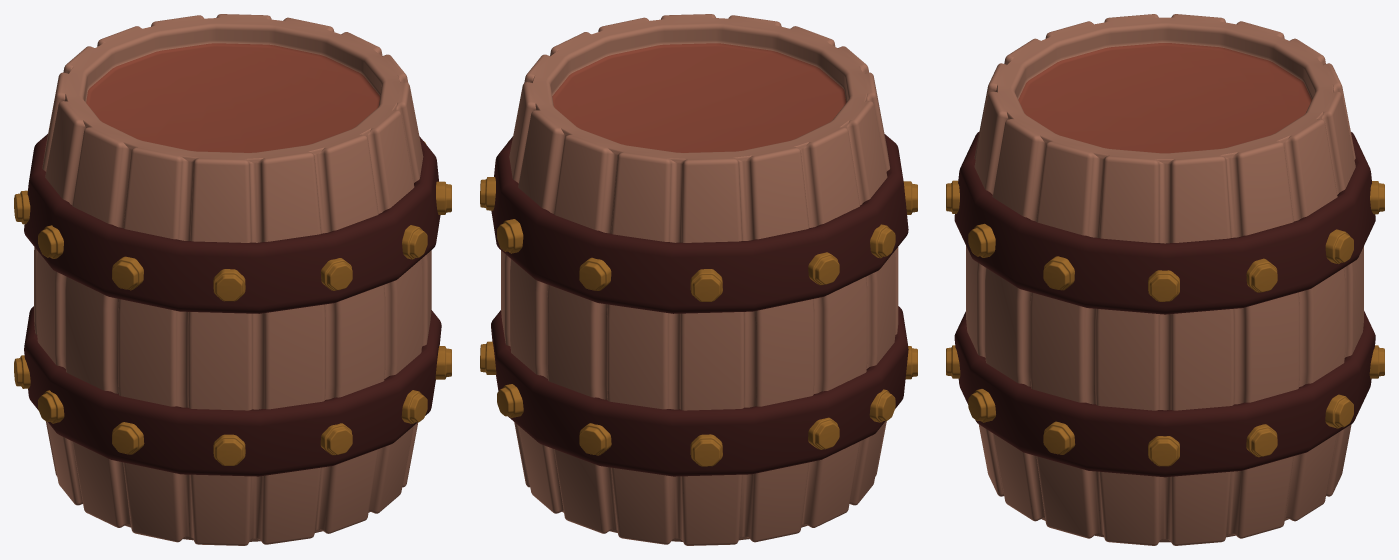
Rendered from Barrel.fbx.
3 renders of one model, left to right at view 1: azimuth 30°, elevation 25°; view 2: azimuth 150°, elevation 25°; view 3: azimuth 270°, elevation 25°, orthographic.
Visible parts, largest first — view 1: Cylinder, Cylinder.022, Cylinder.034, Cylinder.023; view 2: Cylinder, Cylinder.022, Cylinder.034, Cylinder.023; view 3: Cylinder, Cylinder.022, Cylinder.034, Cylinder.023.
Boxes of the visible parts, x1,y1,x2,y2 form: Cylinder: (34,14,431,545); Cylinder.022: (24,134,441,476); Cylinder.034: (14,141,451,301); Cylinder.023: (14,346,451,465); Cylinder: (501,14,898,545); Cylinder.022: (491,134,908,476); Cylinder.034: (480,140,917,301); Cylinder.023: (480,341,917,466); Cylinder: (966,14,1363,545); Cylinder.022: (954,132,1375,477); Cylinder.034: (946,180,1384,301); Cylinder.023: (946,345,1384,466).
Bounding box in the file's own units: 125 × 121 × 125.
